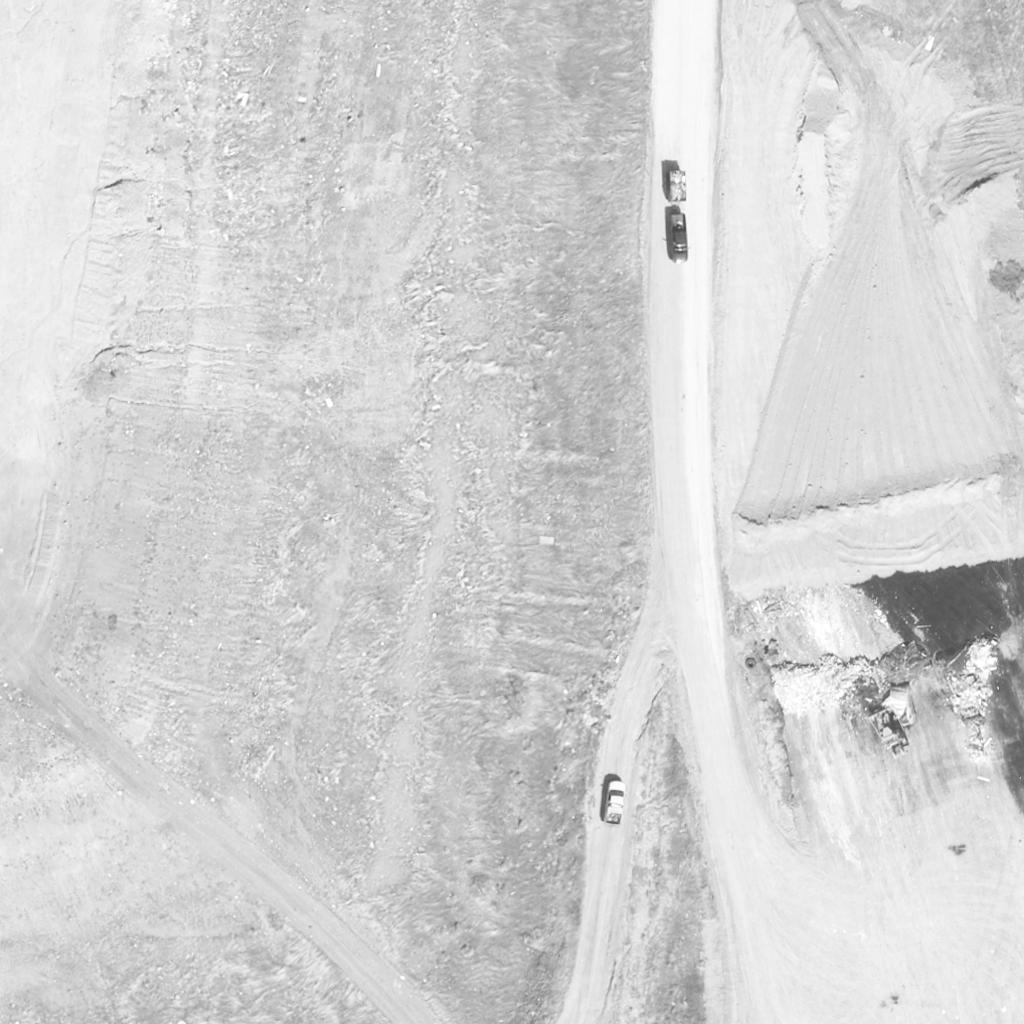vehicle: (666, 213, 690, 265), (605, 782, 629, 828)
